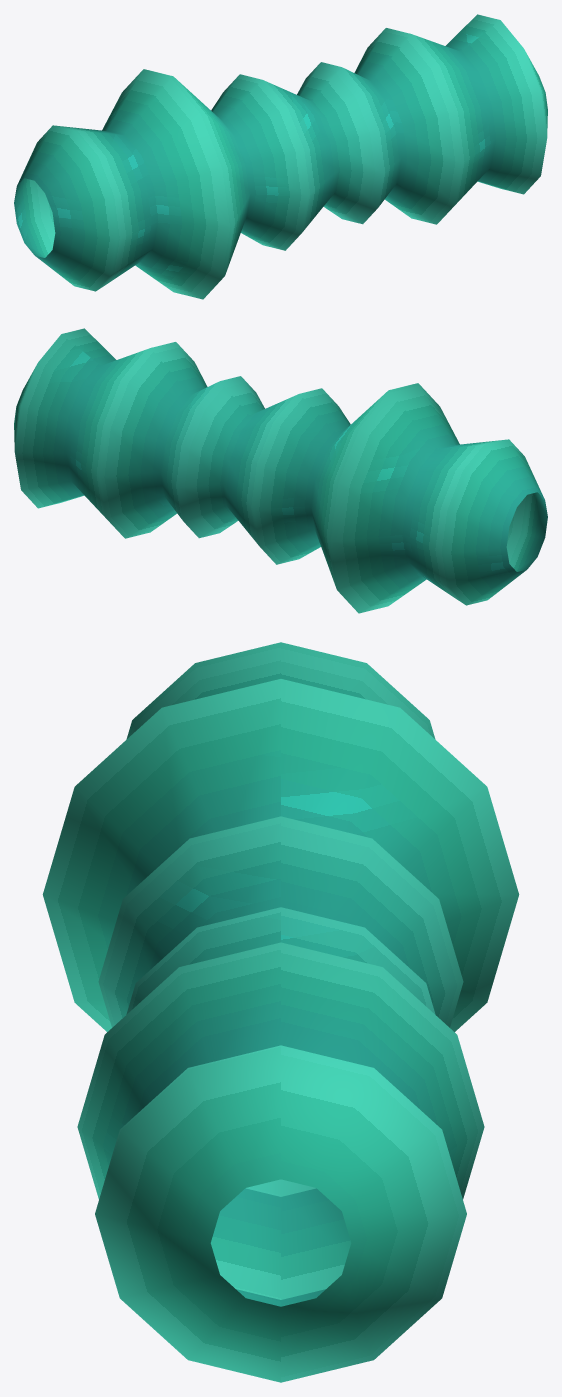
Rendered from spinnyneedle.fbx.
3 renders of one model, top to bottom at view 1: azimuth 30°, elevation 25°; view 2: azimuth 150°, elevation 25°; view 3: azimuth 270°, elevation 25°, orthographic. The views are drawn at different scales.
Visible parts, largest first — view 1: Cylinder.003; view 2: Cylinder.003; view 3: Cylinder.003.
Boxes of the visible parts, <box> form: Cylinder.003: <box>14,14,547,299</box>; Cylinder.003: <box>14,328,547,613</box>; Cylinder.003: <box>42,642,519,1382</box>.
Size of the model in its own units: 50 by 20.81 by 20.81.
